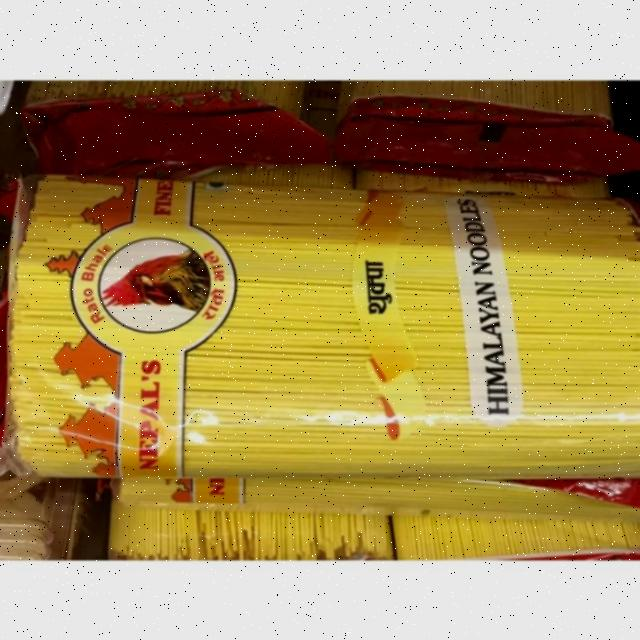Noodles: (37, 156, 640, 493)
